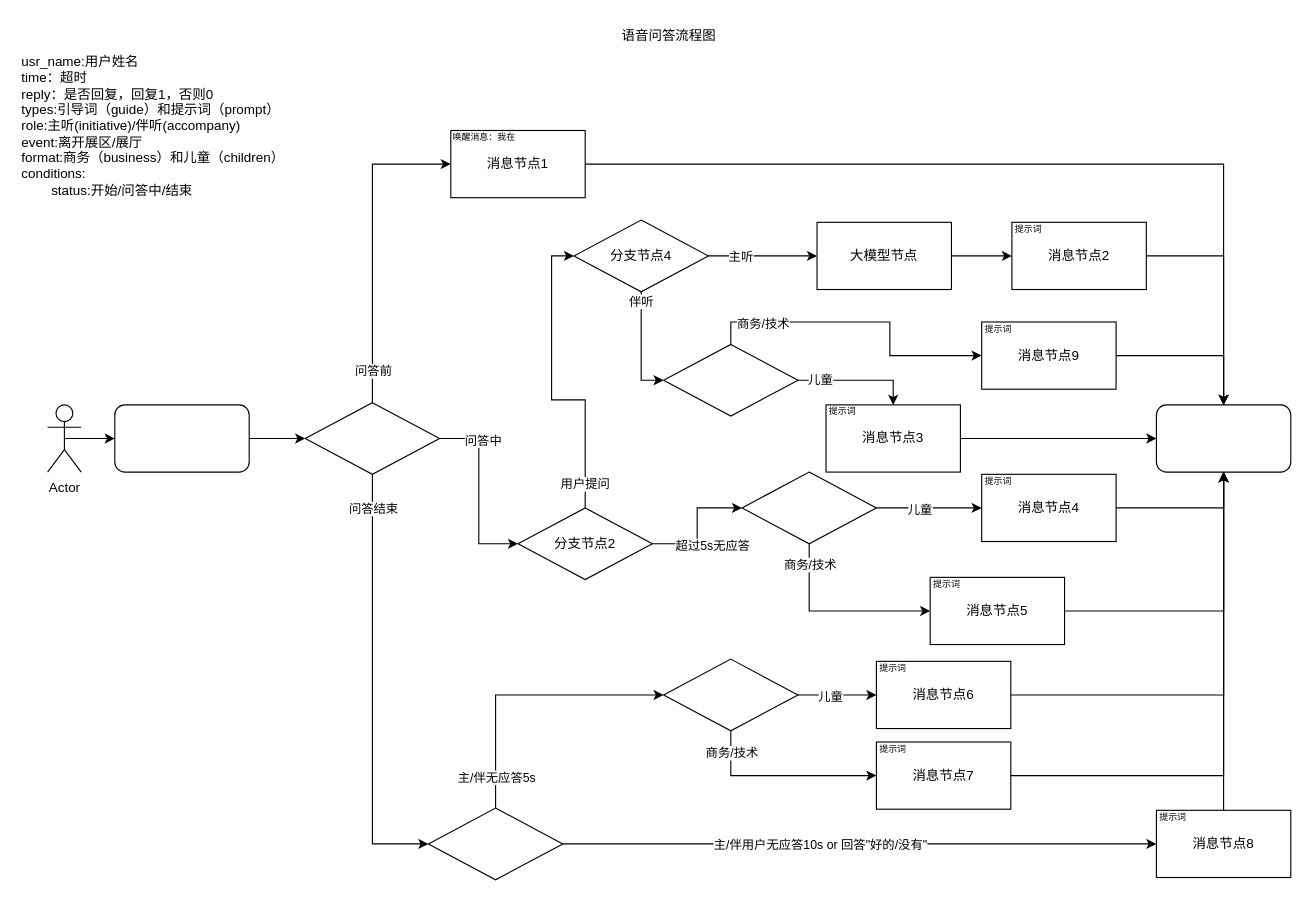
Some shapes in this 1310 by 899 pixel diagram are drawn without their labels. Each missing label, with the centre of its shape:
分支节点1: point (372, 438)
分支节点3: point (495, 843)
分支节点5: point (808, 507)
分支节点6: point (730, 694)
分支节点7: point (730, 379)
开始节点: point (181, 438)
结束节点: point (1223, 438)
